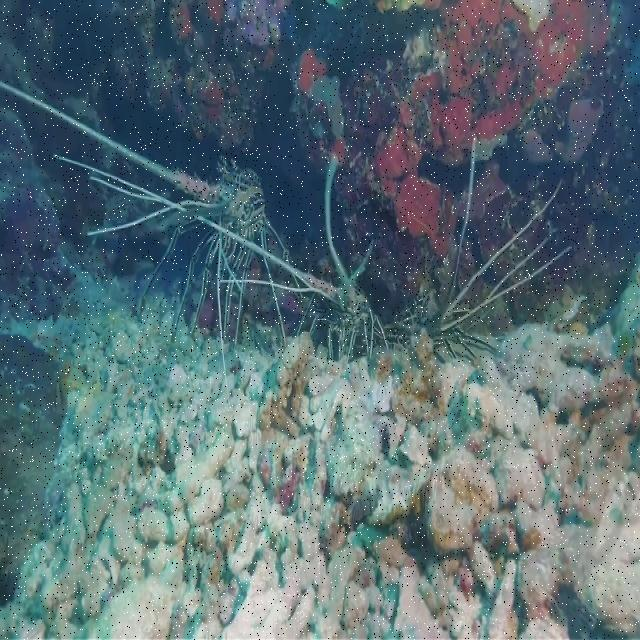fish: (0, 80, 296, 387), (383, 132, 573, 361), (200, 150, 389, 365)
sea-floor: (0, 245, 639, 640)
